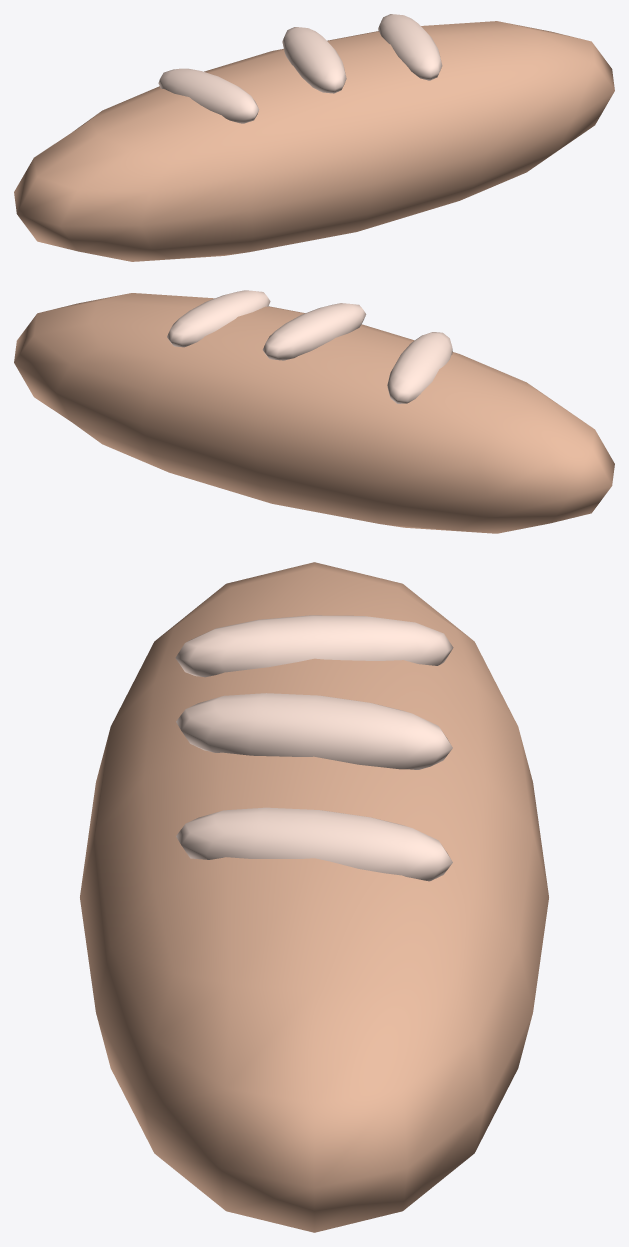
Rendered from Baguette.fbx.
3 renders of one model, top to bottom at view 1: azimuth 30°, elevation 25°; view 2: azimuth 150°, elevation 25°; view 3: azimuth 270°, elevation 25°, orthographic. The views are drawn at different scales.
Parts seen in each view (by area): view 1: Baguette, Baguette Stripes.002, Baguette Stripes, Baguette Stripes.001; view 2: Baguette, Baguette Stripes, Baguette Stripes.002, Baguette Stripes.001; view 3: Baguette, Baguette Stripes, Baguette Stripes.001, Baguette Stripes.002.
Boxes of the visible parts, x1,y1,x2,y2 form: Baguette: (14, 21, 614, 261); Baguette Stripes.002: (158, 68, 259, 123); Baguette Stripes: (282, 27, 346, 93); Baguette Stripes.001: (378, 14, 442, 80); Baguette: (14, 293, 614, 533); Baguette Stripes: (262, 303, 366, 360); Baguette Stripes.002: (387, 332, 452, 403); Baguette Stripes.001: (167, 290, 270, 347); Baguette: (80, 562, 548, 1232); Baguette Stripes: (176, 693, 452, 769); Baguette Stripes.001: (176, 807, 452, 881); Baguette Stripes.002: (175, 615, 453, 677).
Size of the model in its own units: 71.64 by 20.68 by 24.46.
